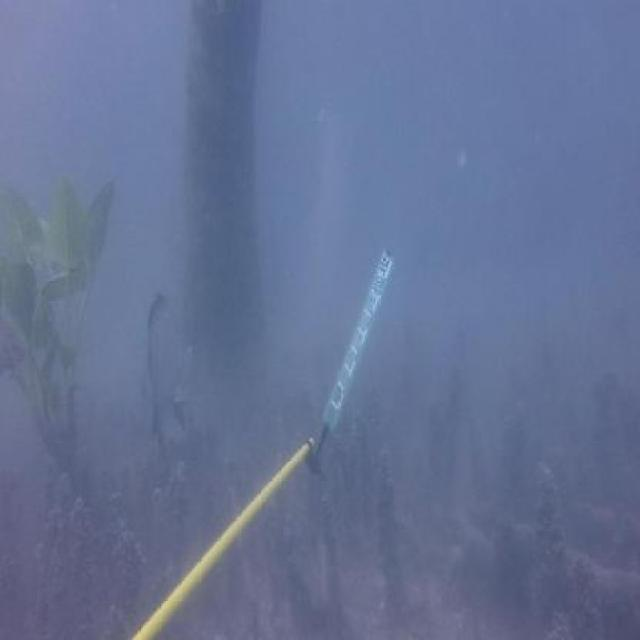acanthopagrus_palmaris: (142, 287, 202, 447)
